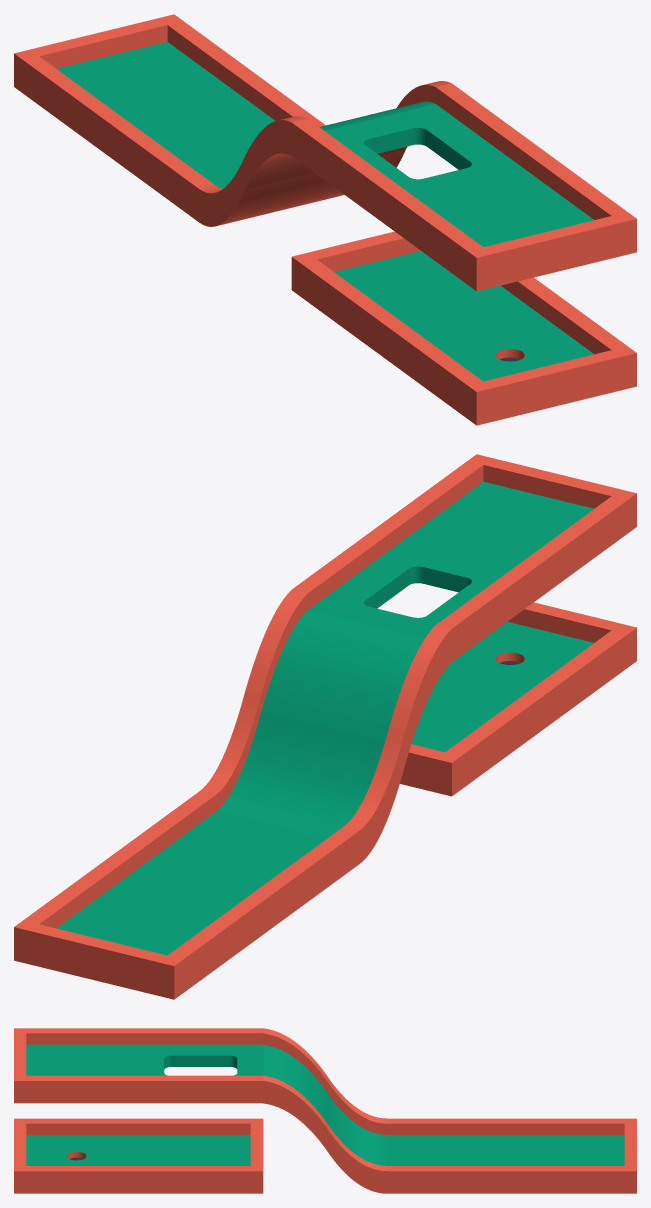
The model's file is Hole2Unmerged.obj.
The picture shows the model from 3 angles, top to bottom: view 1: azimuth 30°, elevation 25°; view 2: azimuth 150°, elevation 25°; view 3: azimuth 270°, elevation 25°; orthographic projection. The views are drawn at different scales.
Parts seen in each view (by area): view 1: end, end_hole, straight_hole, straight, slope_smoothD; view 2: end, slope_smoothD, straight, straight_hole, end_hole; view 3: end, straight, end_hole, slope_smoothD, straight_hole.
Part boxes in pixels (x1,y1,x2,y2): end: [14, 14, 636, 357]; end_hole: [384, 285, 636, 425]; straight_hole: [291, 83, 543, 223]; straight: [106, 82, 325, 221]; slope_smoothD: [199, 81, 451, 226]; end: [14, 454, 636, 999]; slope_smoothD: [199, 590, 451, 863]; straight: [107, 791, 359, 931]; straight_hole: [292, 522, 544, 661]; end_hole: [435, 602, 636, 728]; end: [14, 1028, 636, 1193]; straight: [387, 1118, 512, 1193]; end_hole: [14, 1118, 138, 1193]; slope_smoothD: [263, 1028, 387, 1193]; straight_hole: [138, 1028, 263, 1103].
Bounding box in the file's own units: 1 × 1 × 5.
